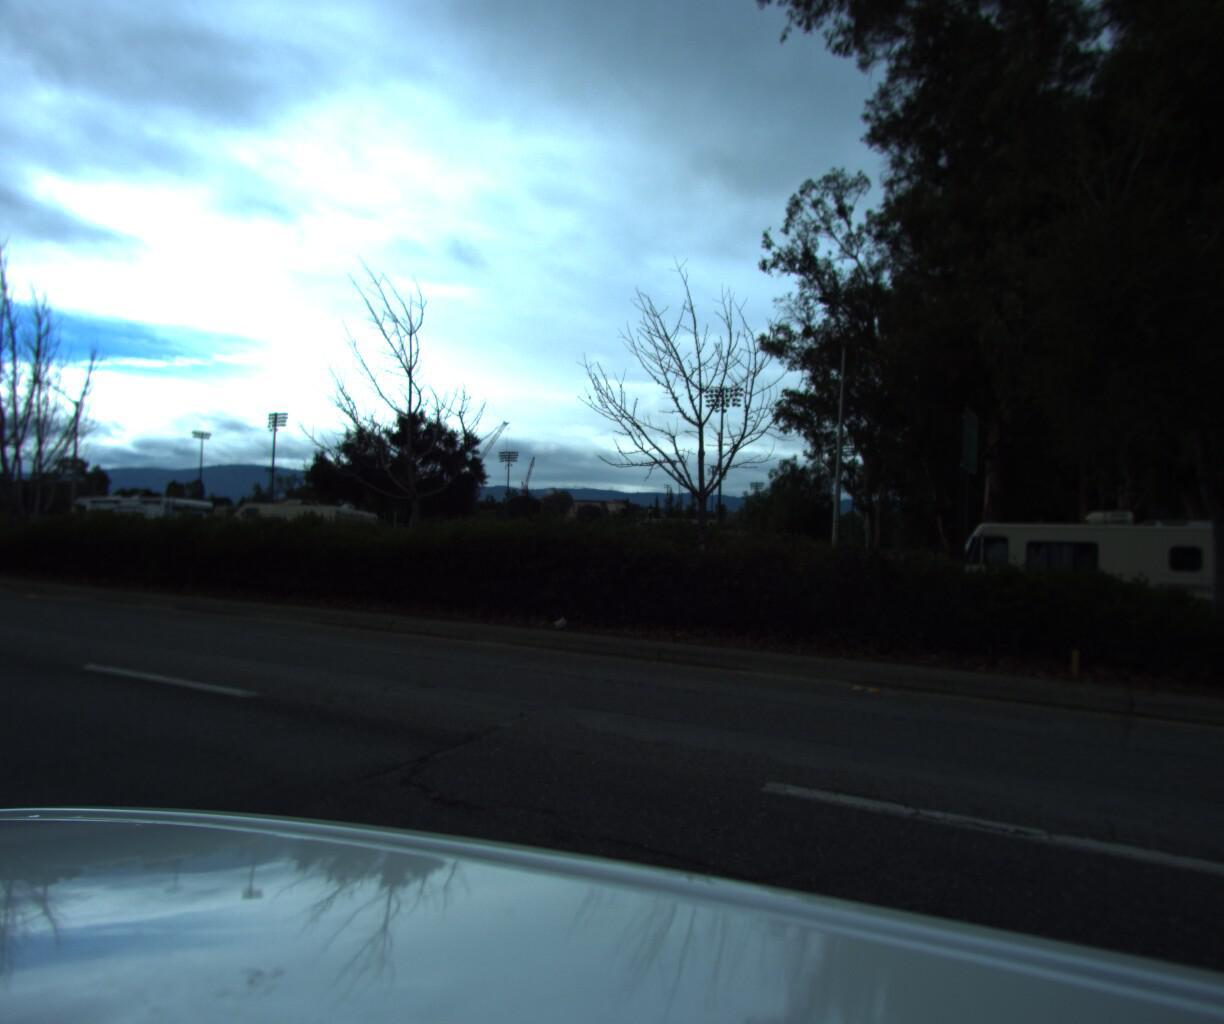other_vehicle: (933, 500, 1224, 649), (215, 490, 383, 576), (55, 482, 218, 568)
